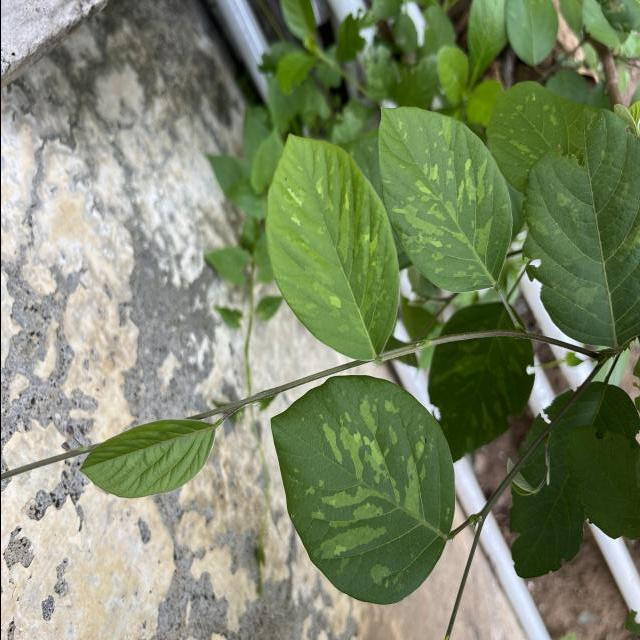Desmodium gangeticum: (266, 372, 457, 606), (261, 131, 402, 364), (374, 103, 514, 294)
